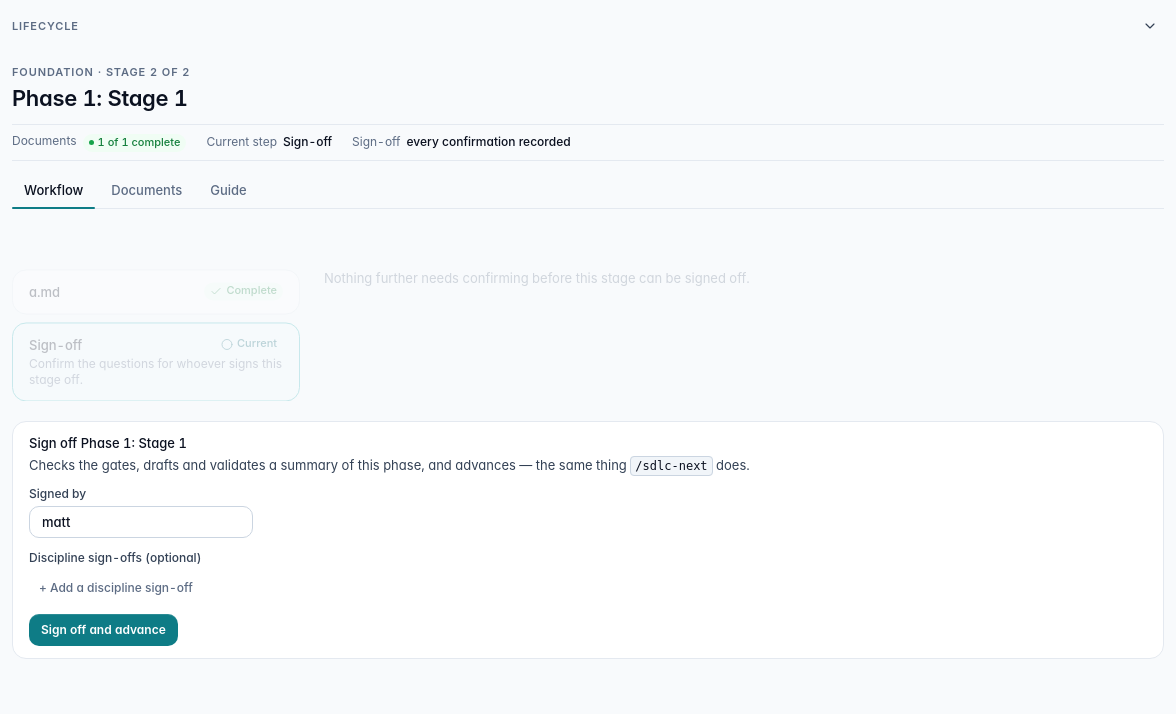
Test: Spine band collapse / expand (I8) › with the engine on, expanding mounts the body first and then plays from 0 on it
Expected: the heading "Phase 1: Stage 1" is shown, [12, 84, 190, 112]
Step 1. Click the button named "Expand the lifecycle view" → (1150, 26), box [1136, 12, 1164, 40]
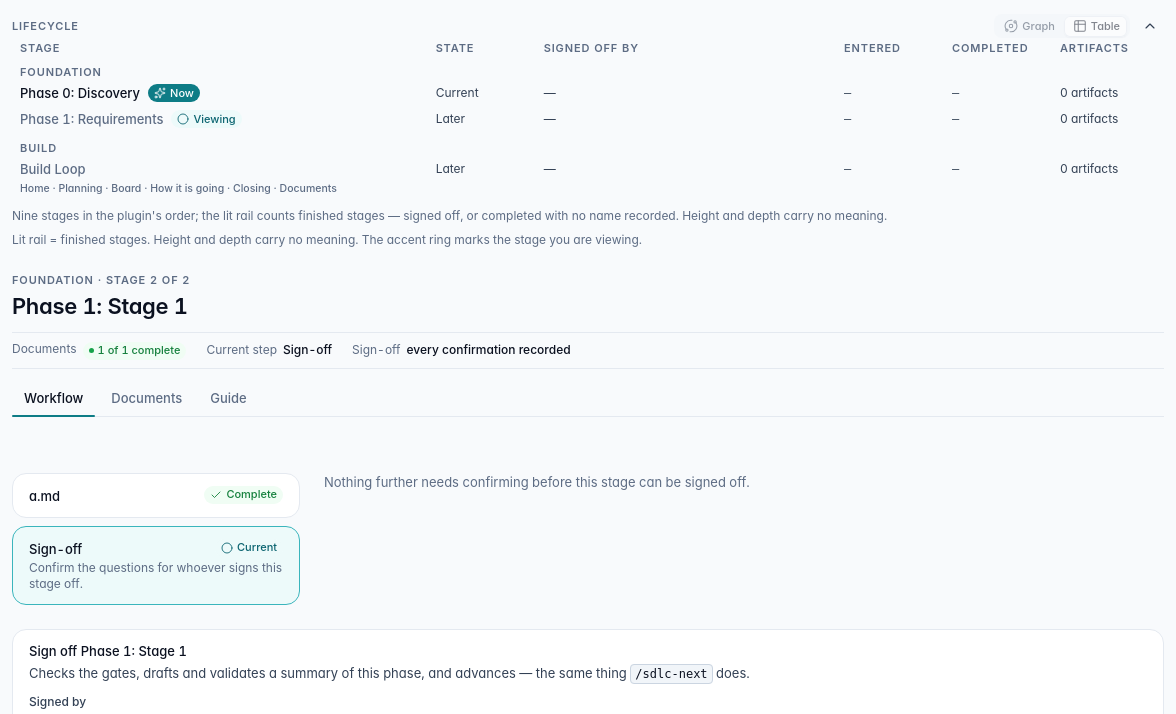
Now the element with test id "spine-band" does not have attribute data-collapsed, box [12, 12, 1164, 248]
